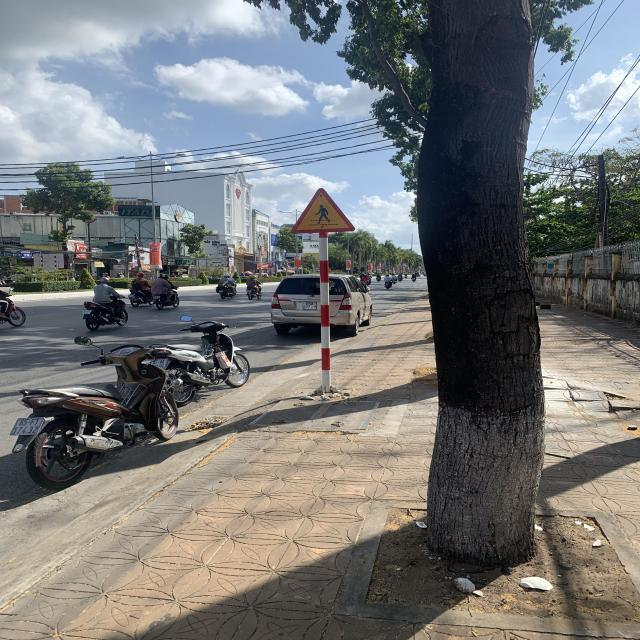Duong_Nguoi_Di_Bo_Sang_Ngang: (289, 188, 357, 234)
